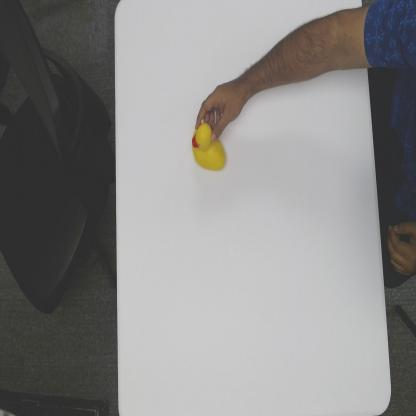Arm: (241, 6, 370, 104)
Duck: (191, 119, 228, 173)
Hand: (194, 75, 244, 144)
